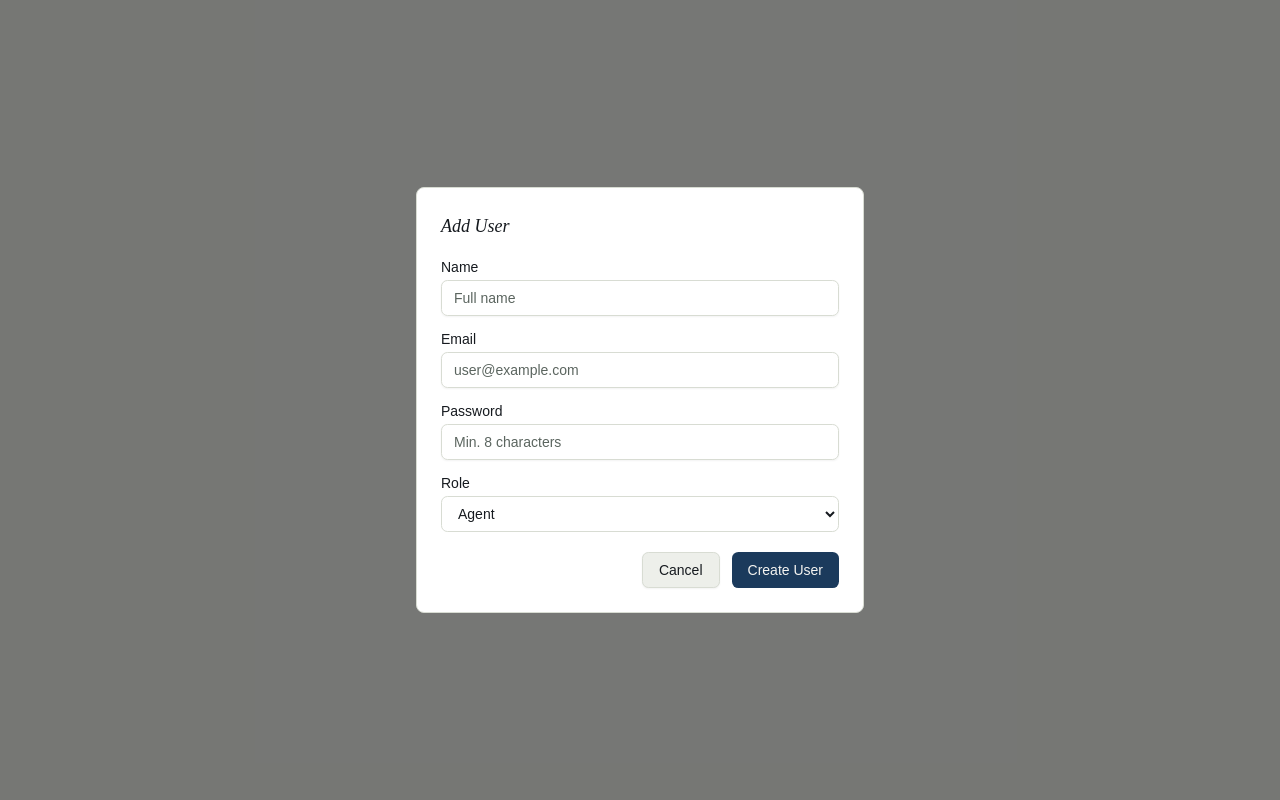
Test case: CreateUserModal › shows error when email is too short
The width and height of the screenshot is (1280, 800).
Type "ab" into the field labelled "Email" at (640, 370), box [441,352,839,388]
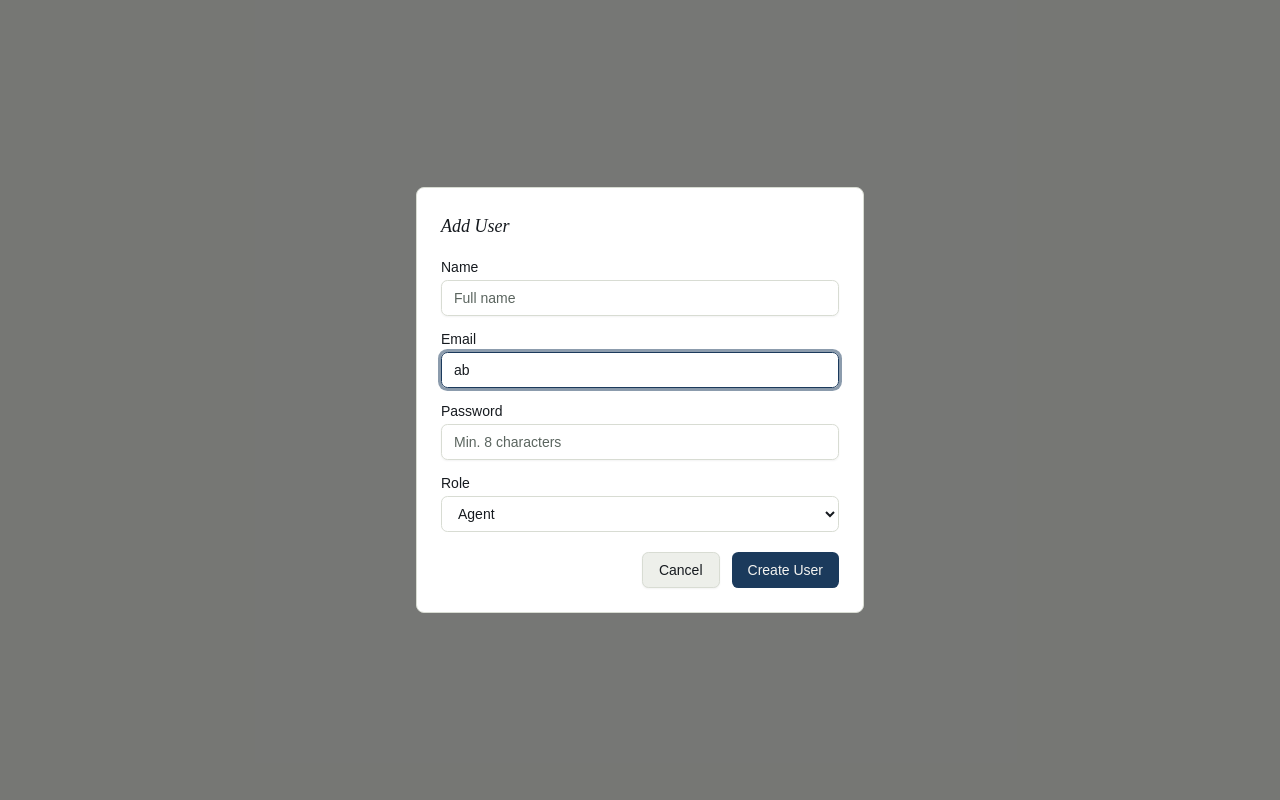
Click the button "Create User" at (785, 570), box [732,552,839,588]
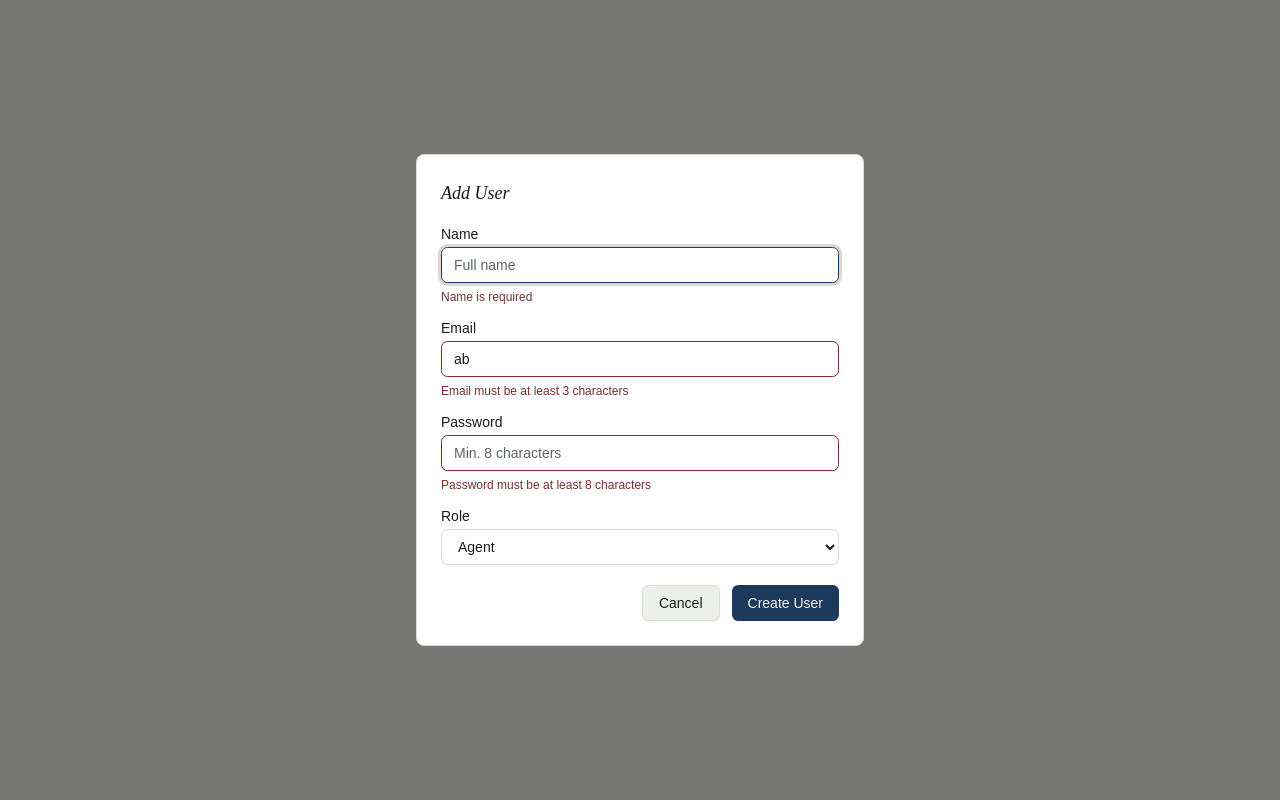
Now the text "Email must be at least 3 characters" is shown, box [441,384,628,398]
